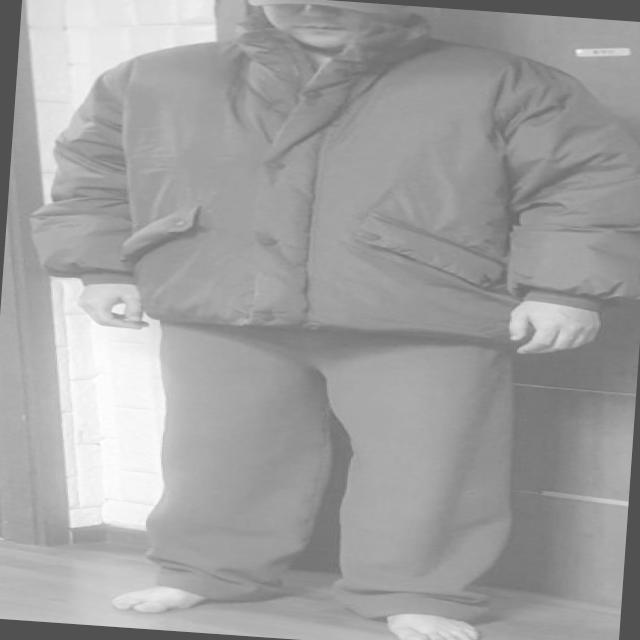padding: (21, 0, 640, 358)
trainingpants: (134, 316, 518, 624)
